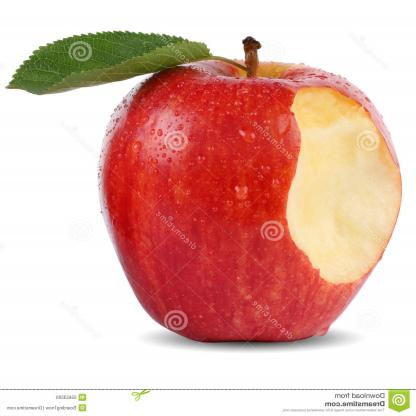apple: (91, 56, 404, 354)
